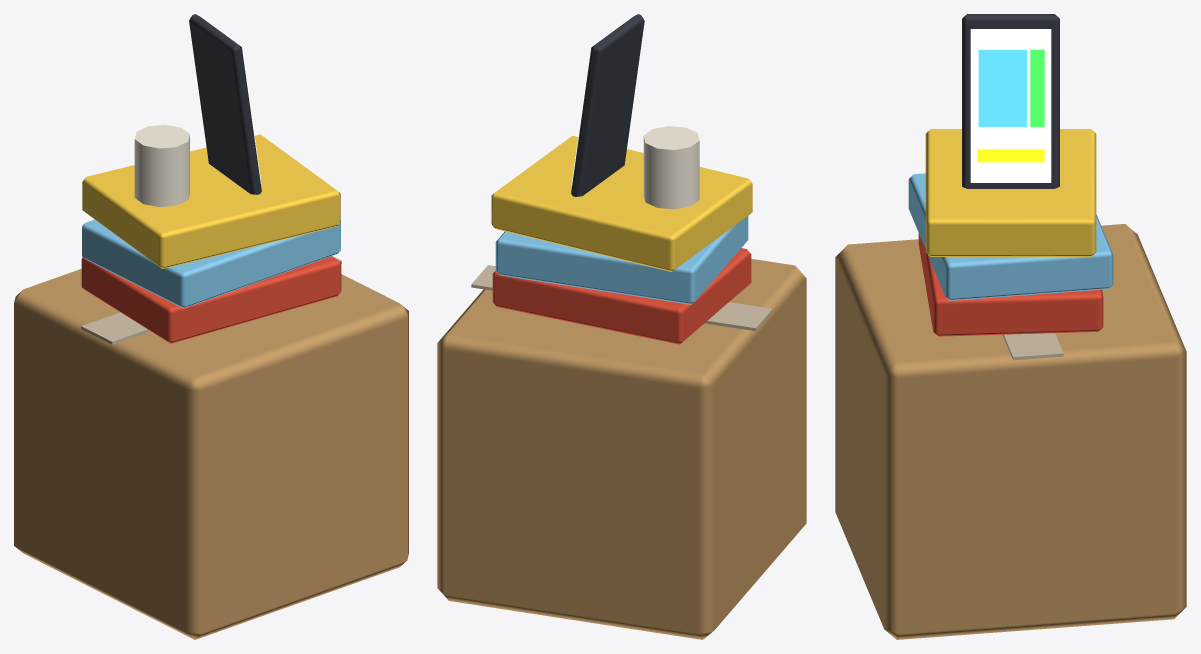
Rendered from station_buffer_ausstattung_1_0.glb.
The picture shows the model from 3 angles, left to right: view 1: azimuth 30°, elevation 25°; view 2: azimuth 150°, elevation 25°; view 3: azimuth 270°, elevation 25°; orthographic projection. The views are drawn at different scales.
Visible parts, largest first — view 1: station_buffer_ausstattung_1_0; view 2: station_buffer_ausstattung_1_0; view 3: station_buffer_ausstattung_1_0.
Boxes of the visible parts, <box> form: station_buffer_ausstattung_1_0: <box>14,14,408,639</box>; station_buffer_ausstattung_1_0: <box>437,14,806,639</box>; station_buffer_ausstattung_1_0: <box>835,14,1186,639</box>.
Size of the model in its own units: 0.4118 by 0.7225 by 0.4118.
